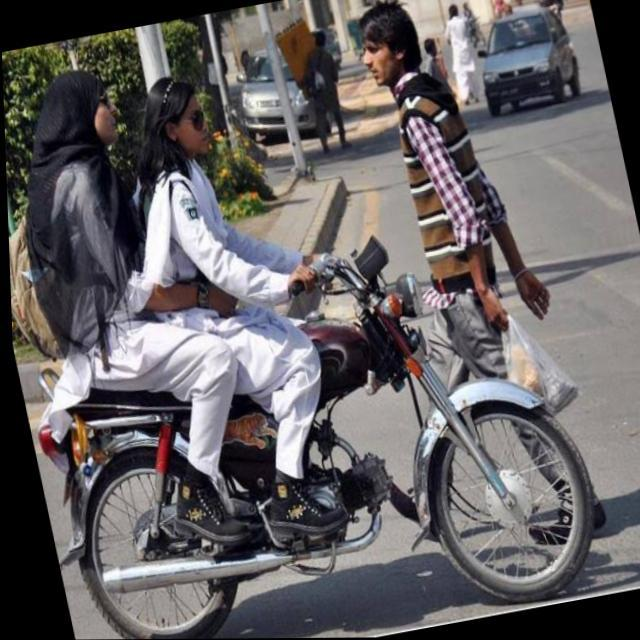Nonhelmet: (32, 59, 122, 169), (350, 0, 438, 100), (135, 73, 220, 167)
